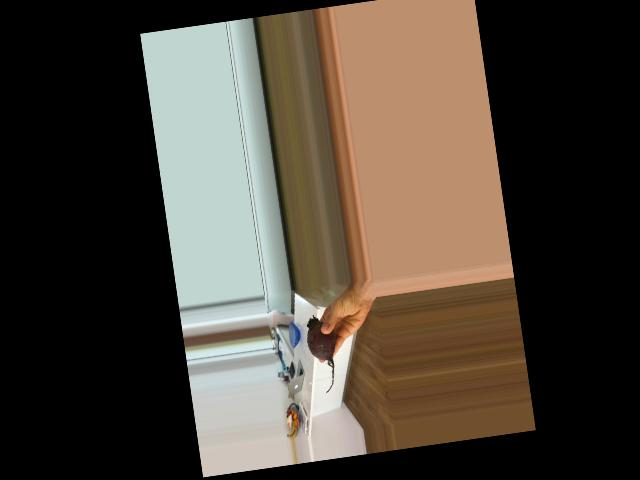beet: (304, 313, 342, 394)
